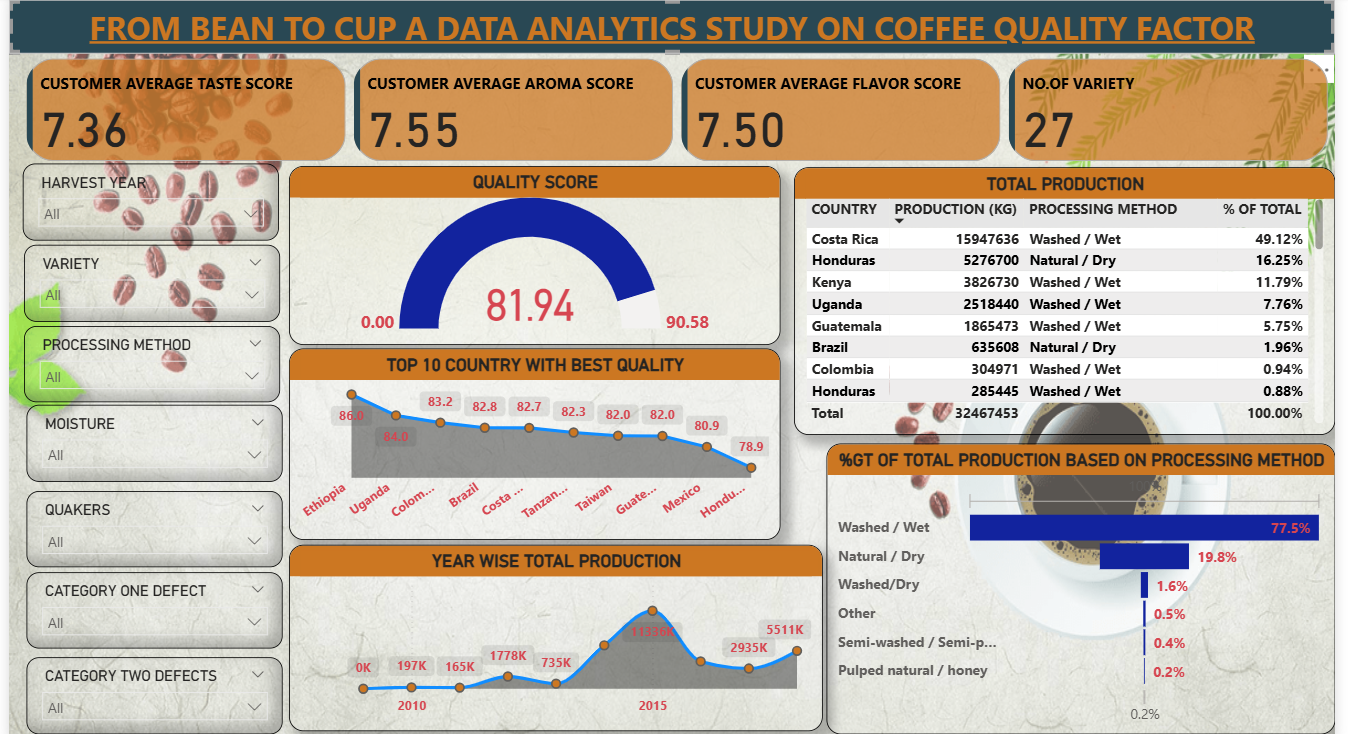

Layout of this report page (visuals, bound fields, positions):
{"tool":"powerbi","page":{"name":"Page 1","canvas":[1280,720],"ordinal":0},"visuals":[{"type":"shape","box":[0,3.6,1280,51.9],"z":0},{"type":"cardVisual","fields":{"Data":["Avg(arabica_ratings_raw.Aftertaste)","Avg(arabica_ratings_raw.Aroma)","Avg(arabica_ratings_raw.Flavor)","Count(arabica_ratings_raw.Variety)"]},"box":[12.1,55.5,1268,109.8],"z":1000},{"type":"slicer","fields":{"Values":["arabica_ratings_raw.Harvest Year.2"]},"box":[13.3,161.7,247.3,74.8],"z":2000},{"type":"slicer","fields":{"Values":["arabica_ratings_raw.Variety"]},"box":[14.5,240.1,247.3,74.8],"z":3000},{"type":"gauge","title":"QUALITY SCORE","fields":{"Y":["Avg(arabica_ratings_raw.quality_score)"],"MinValue":["Min(arabica_ratings_raw.quality_score)"],"MaxValue":["Max(arabica_ratings_raw.quality_score)"]},"box":[270.2,164.1,515.2,172.5],"z":4000},{"type":"slicer","fields":{"Values":["arabica_ratings_raw.Processing Method"]},"box":[14.5,318.5,247.3,73.6],"z":5000},{"type":"lineChart","title":"TOP 10 COUNTRY WITH  BEST QUALITY","fields":{"Y":["Avg(arabica_ratings_raw.quality_score)"],"Category":["arabica_ratings_raw.Country of Origin"]},"box":[270.2,340.2,512.7,184.6],"z":6000},{"type":"slicer","fields":{"Values":["arabica_ratings_raw.Moisture"]},"box":[16.9,394.5,247.3,74.8],"z":7000},{"type":"slicer","fields":{"Values":["arabica_ratings_raw.Quakers"]},"box":[16.9,477.8,247.3,73.6],"z":8000},{"type":"slicer","fields":{"Values":["arabica_ratings_raw.Category One Defects"]},"box":[16.9,556.2,247.3,73.6],"z":9000},{"type":"slicer","fields":{"Values":["arabica_ratings_raw.Category Two Defects"]},"box":[16.9,638.2,247.3,74.8],"z":10000},{"type":"lineChart","title":"YEAR WISE TOTAL PRODUCTION ","fields":{"Y":["arabica_ratings_raw.Total Production"],"Category":["arabica_ratings_raw.Harvest Year.2"]},"box":[270.2,529.6,515.2,179.8],"z":11000},{"type":"tableEx","title":"TOTAL PRODUCTION","fields":{"Values":["arabica_ratings_raw.Country of Origin","arabica_ratings_raw.Total Production","select","arabica_ratings_raw.Processing Method","Divide(arabica_ratings_raw.Total Production, ScopedEval(arabica_ratings_raw.Total Production, []))"]},"box":[789,165.3,491,258.2],"z":12000},{"type":"funnel","title":"%GT OF TOTAL PRODUCTION BASED ON PROCESSING METHOD","fields":{"Category":["arabica_ratings_raw.Processing Method"],"Y":["Divide(arabica_ratings_raw.Total Production, ScopedEval(arabica_ratings_raw.Total Production, []))"]},"box":[789,431.9,491,281.1],"z":13000}]}

Visuals, with their boxes on the page's 1280x720 design canvas (x1, y1, x2, y2). These are canvas units, not pixel positions in the 1348x734 screenshot, which may show the page scaled, cropped or inside an application window:
shape: select_region(0, 4, 1280, 56)
cardVisual - Avg(arabica_ratings_raw.Aftertaste) x Avg(arabica_ratings_raw.Aroma): select_region(12, 56, 1280, 165)
slicer - arabica_ratings_raw.Harvest Year.2: select_region(13, 162, 261, 236)
slicer - arabica_ratings_raw.Variety: select_region(14, 240, 262, 315)
"QUALITY SCORE" gauge: select_region(270, 164, 785, 337)
slicer - arabica_ratings_raw.Processing Method: select_region(14, 318, 262, 392)
"TOP 10 COUNTRY WITH  BEST QUALITY" lineChart: select_region(270, 340, 783, 525)
slicer - arabica_ratings_raw.Moisture: select_region(17, 394, 264, 469)
slicer - arabica_ratings_raw.Quakers: select_region(17, 478, 264, 551)
slicer - arabica_ratings_raw.Category One Defects: select_region(17, 556, 264, 630)
slicer - arabica_ratings_raw.Category Two Defects: select_region(17, 638, 264, 713)
"YEAR WISE TOTAL PRODUCTION " lineChart: select_region(270, 530, 785, 709)
"TOTAL PRODUCTION" tableEx: select_region(789, 165, 1280, 424)
"%GT OF TOTAL PRODUCTION BASED ON PROCESSING METHOD" funnel: select_region(789, 432, 1280, 713)
